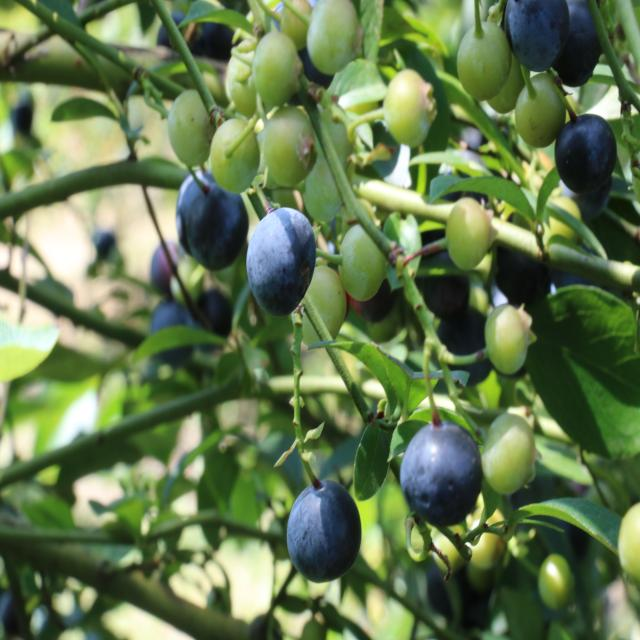blueberry: (396, 418, 486, 530), (242, 205, 320, 321), (285, 476, 364, 583), (172, 167, 245, 272), (499, 0, 569, 75), (556, 122, 621, 198), (558, 0, 604, 91)
blueberry-unripe: (451, 15, 511, 103), (305, 0, 364, 84), (479, 408, 535, 494), (442, 190, 496, 278), (292, 266, 346, 352), (260, 107, 318, 187), (162, 85, 216, 166), (206, 111, 260, 192), (380, 70, 434, 148), (514, 66, 564, 148), (339, 221, 388, 302), (250, 28, 304, 101), (483, 306, 531, 378), (486, 44, 530, 118), (303, 160, 349, 230), (224, 34, 262, 117), (534, 549, 576, 610), (615, 498, 640, 588)
